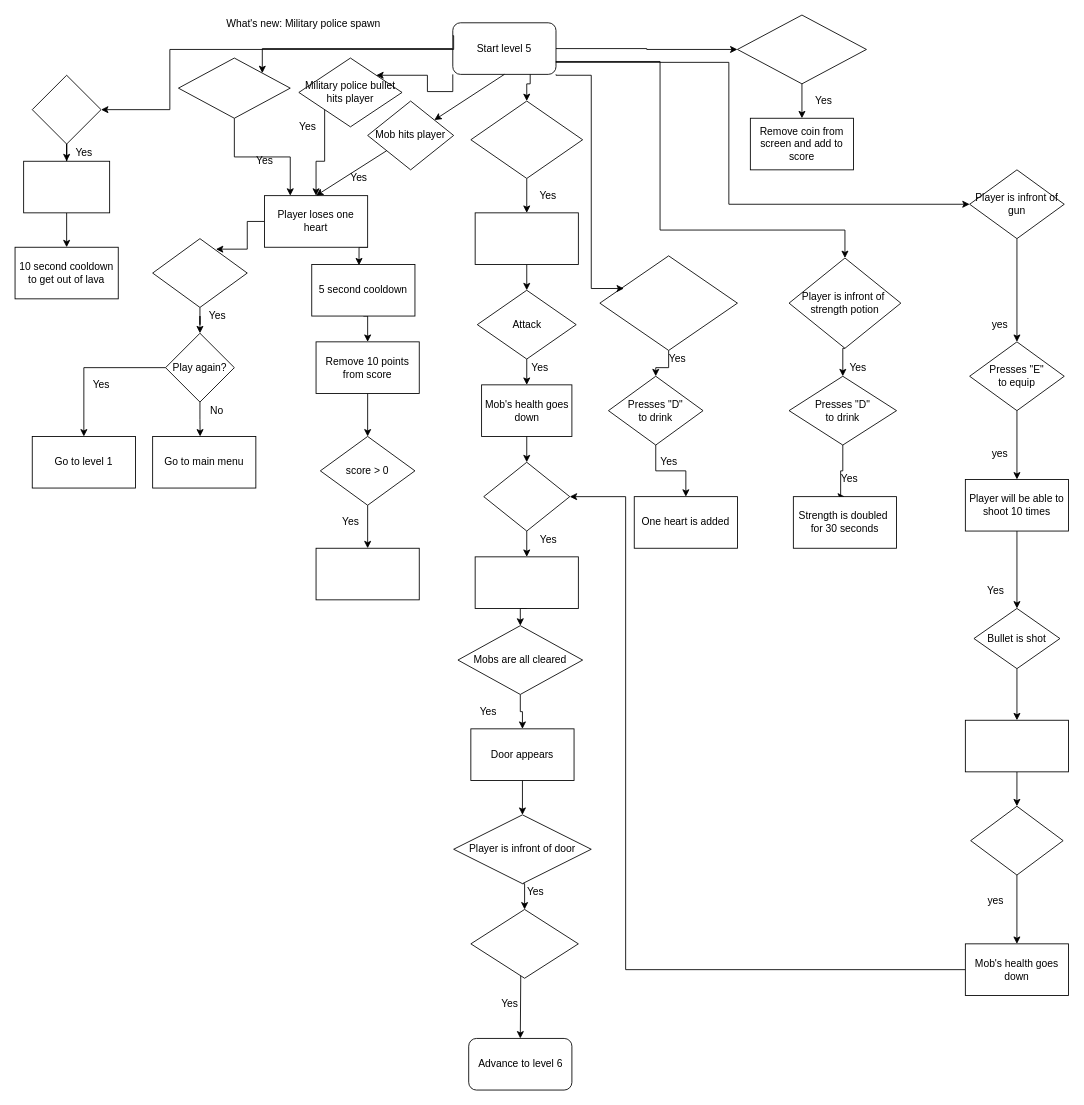
Some shapes in this 1084 by 1105 pixel diagram are drawn without their labels. Here are the shapes that lost their labels. From the top down, the centre of each, then its label:
the point at 801,49: Player collides with coin
the point at 234,87: Abnormal (a faster mob) hits player
the point at 66,109: Player touches lava block
the point at 526,139: Player is in range of mob
the point at 66,186: Player loses 1 heart
the point at 526,238: Player is able to attack mob
the point at 199,272: Player is out of hearts
the point at 668,302: Player is infront of health potion
the point at 526,496: Mob health <= 0?
the point at 367,573: Make score = 0
the point at 526,582: Mob dies, and removed from screen
the point at 1016,745: Bullet count reduces by 1
the point at 1016,840: Bullet hits mob
the point at 524,943: Presses "A" to advance
